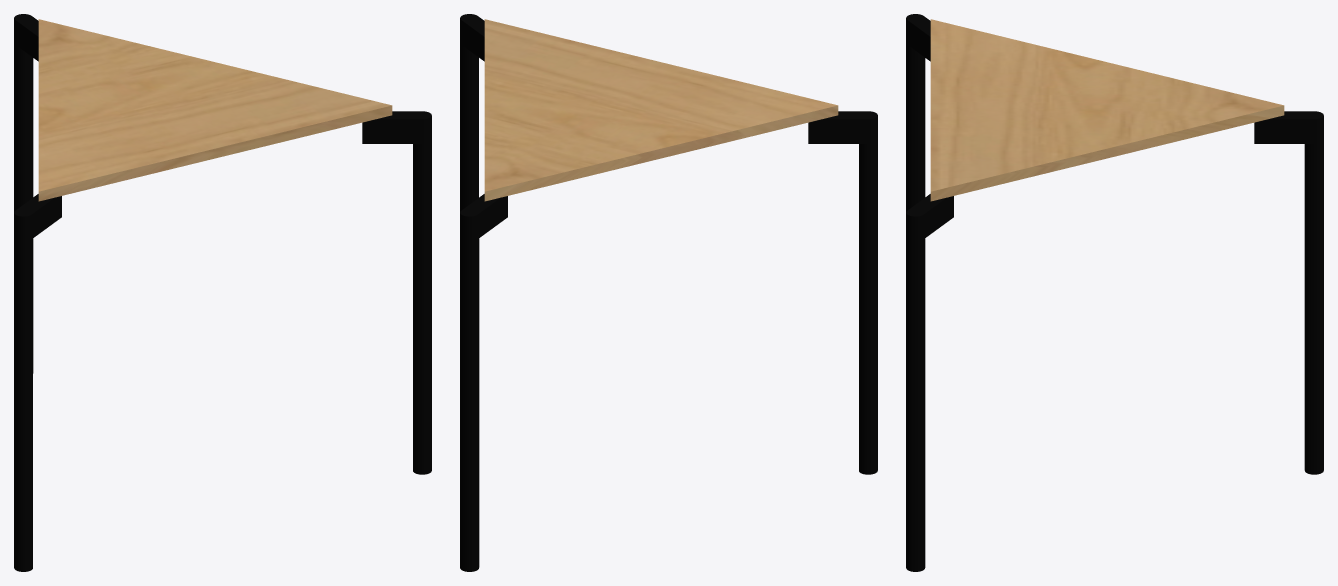
File: newtriangle.fbx
The picture shows the model from 3 angles, left to right: view 1: azimuth 30°, elevation 25°; view 2: azimuth 150°, elevation 25°; view 3: azimuth 270°, elevation 25°; orthographic projection.
Visible parts, largest first — view 1: triangle, support.001, support.002, support, sub_support.002, sub_support.001, sub_support; view 2: triangle, support, support.001, support.002, sub_support.001, sub_support, sub_support.002; view 3: triangle, support.002, support, support.001, sub_support, sub_support.002, sub_support.001.
Part boxes in pixels (<box>): triangle: <box>38,19,392,201</box>; support.001: <box>14,208,32,571</box>; support.002: <box>413,111,431,474</box>; support: <box>14,14,33,373</box>; sub_support.002: <box>362,111,422,143</box>; sub_support.001: <box>15,194,61,238</box>; sub_support: <box>15,16,38,61</box>; triangle: <box>484,19,838,201</box>; support: <box>460,208,479,571</box>; support.001: <box>859,111,877,474</box>; support.002: <box>460,14,478,212</box>; sub_support.001: <box>808,111,868,143</box>; sub_support: <box>461,194,507,238</box>; sub_support.002: <box>461,16,484,61</box>; triangle: <box>930,19,1284,201</box>; support.002: <box>906,209,925,571</box>; support: <box>1304,111,1323,474</box>; support.001: <box>906,14,925,211</box>; sub_support: <box>1254,111,1314,143</box>; sub_support.002: <box>908,194,953,238</box>; sub_support.001: <box>907,16,930,61</box>.
Bounding box in the file's own units: 1761 × 1480 × 1534.
Materials: 3 (1 with a texture image).
